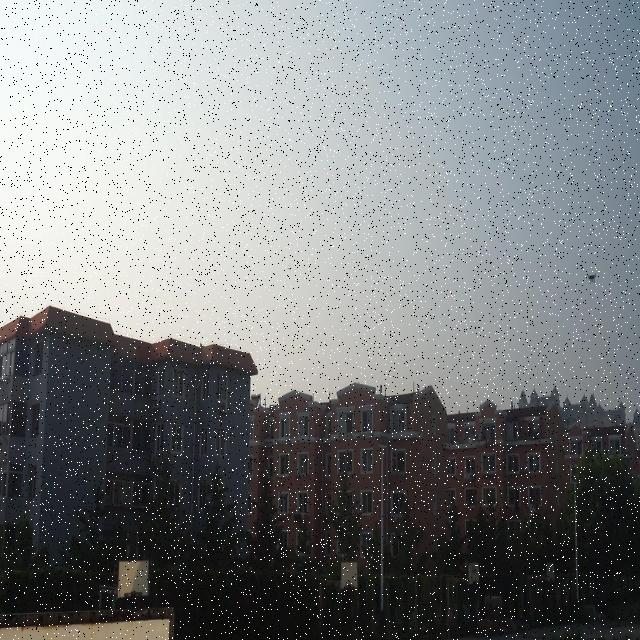UAV: (586, 272, 596, 284)
